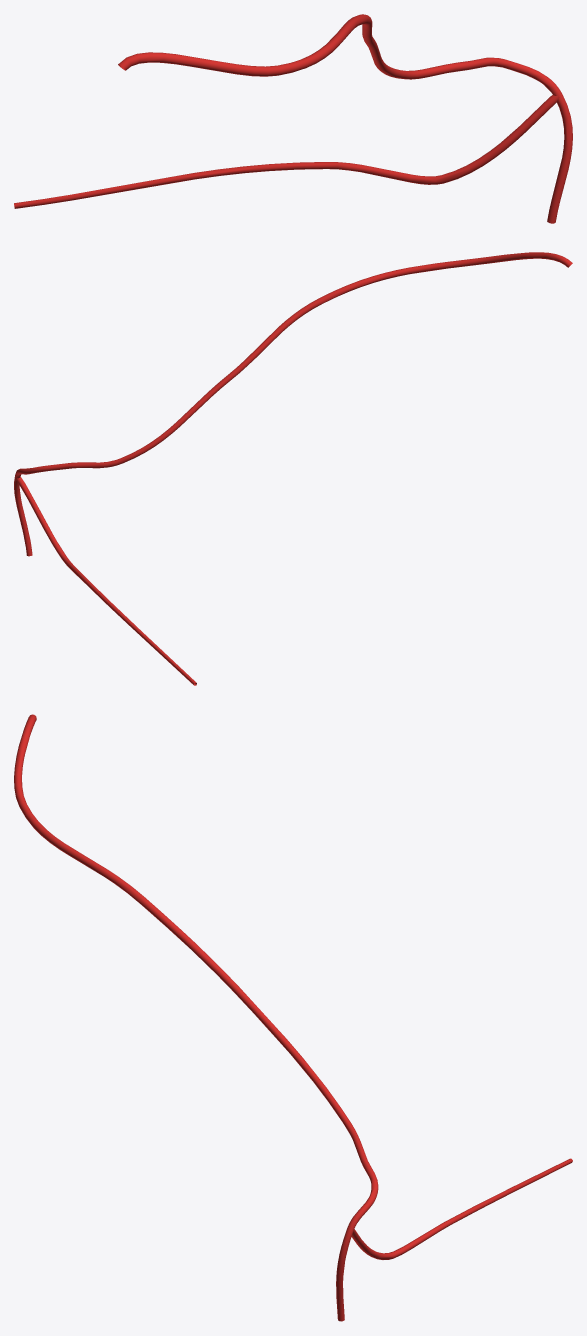
The model's file is circulatorio-suprascapular-artery-l.glb.
3 renders of one model, top to bottom at view 1: azimuth 30°, elevation 25°; view 2: azimuth 150°, elevation 25°; view 3: azimuth 270°, elevation 25°, orthographic. The views are drawn at different scales.
Parts seen in each view (by area): view 1: Suprascapular artery.l; view 2: Suprascapular artery.l; view 3: Suprascapular artery.l.
Boxes of the visible parts, <box> form: Suprascapular artery.l: <box>14,14,572,223</box>; Suprascapular artery.l: <box>14,252,572,685</box>; Suprascapular artery.l: <box>14,714,572,1321</box>.
Bounding box in the file's own units: 0.1027 × 0.0695 × 0.0961.
